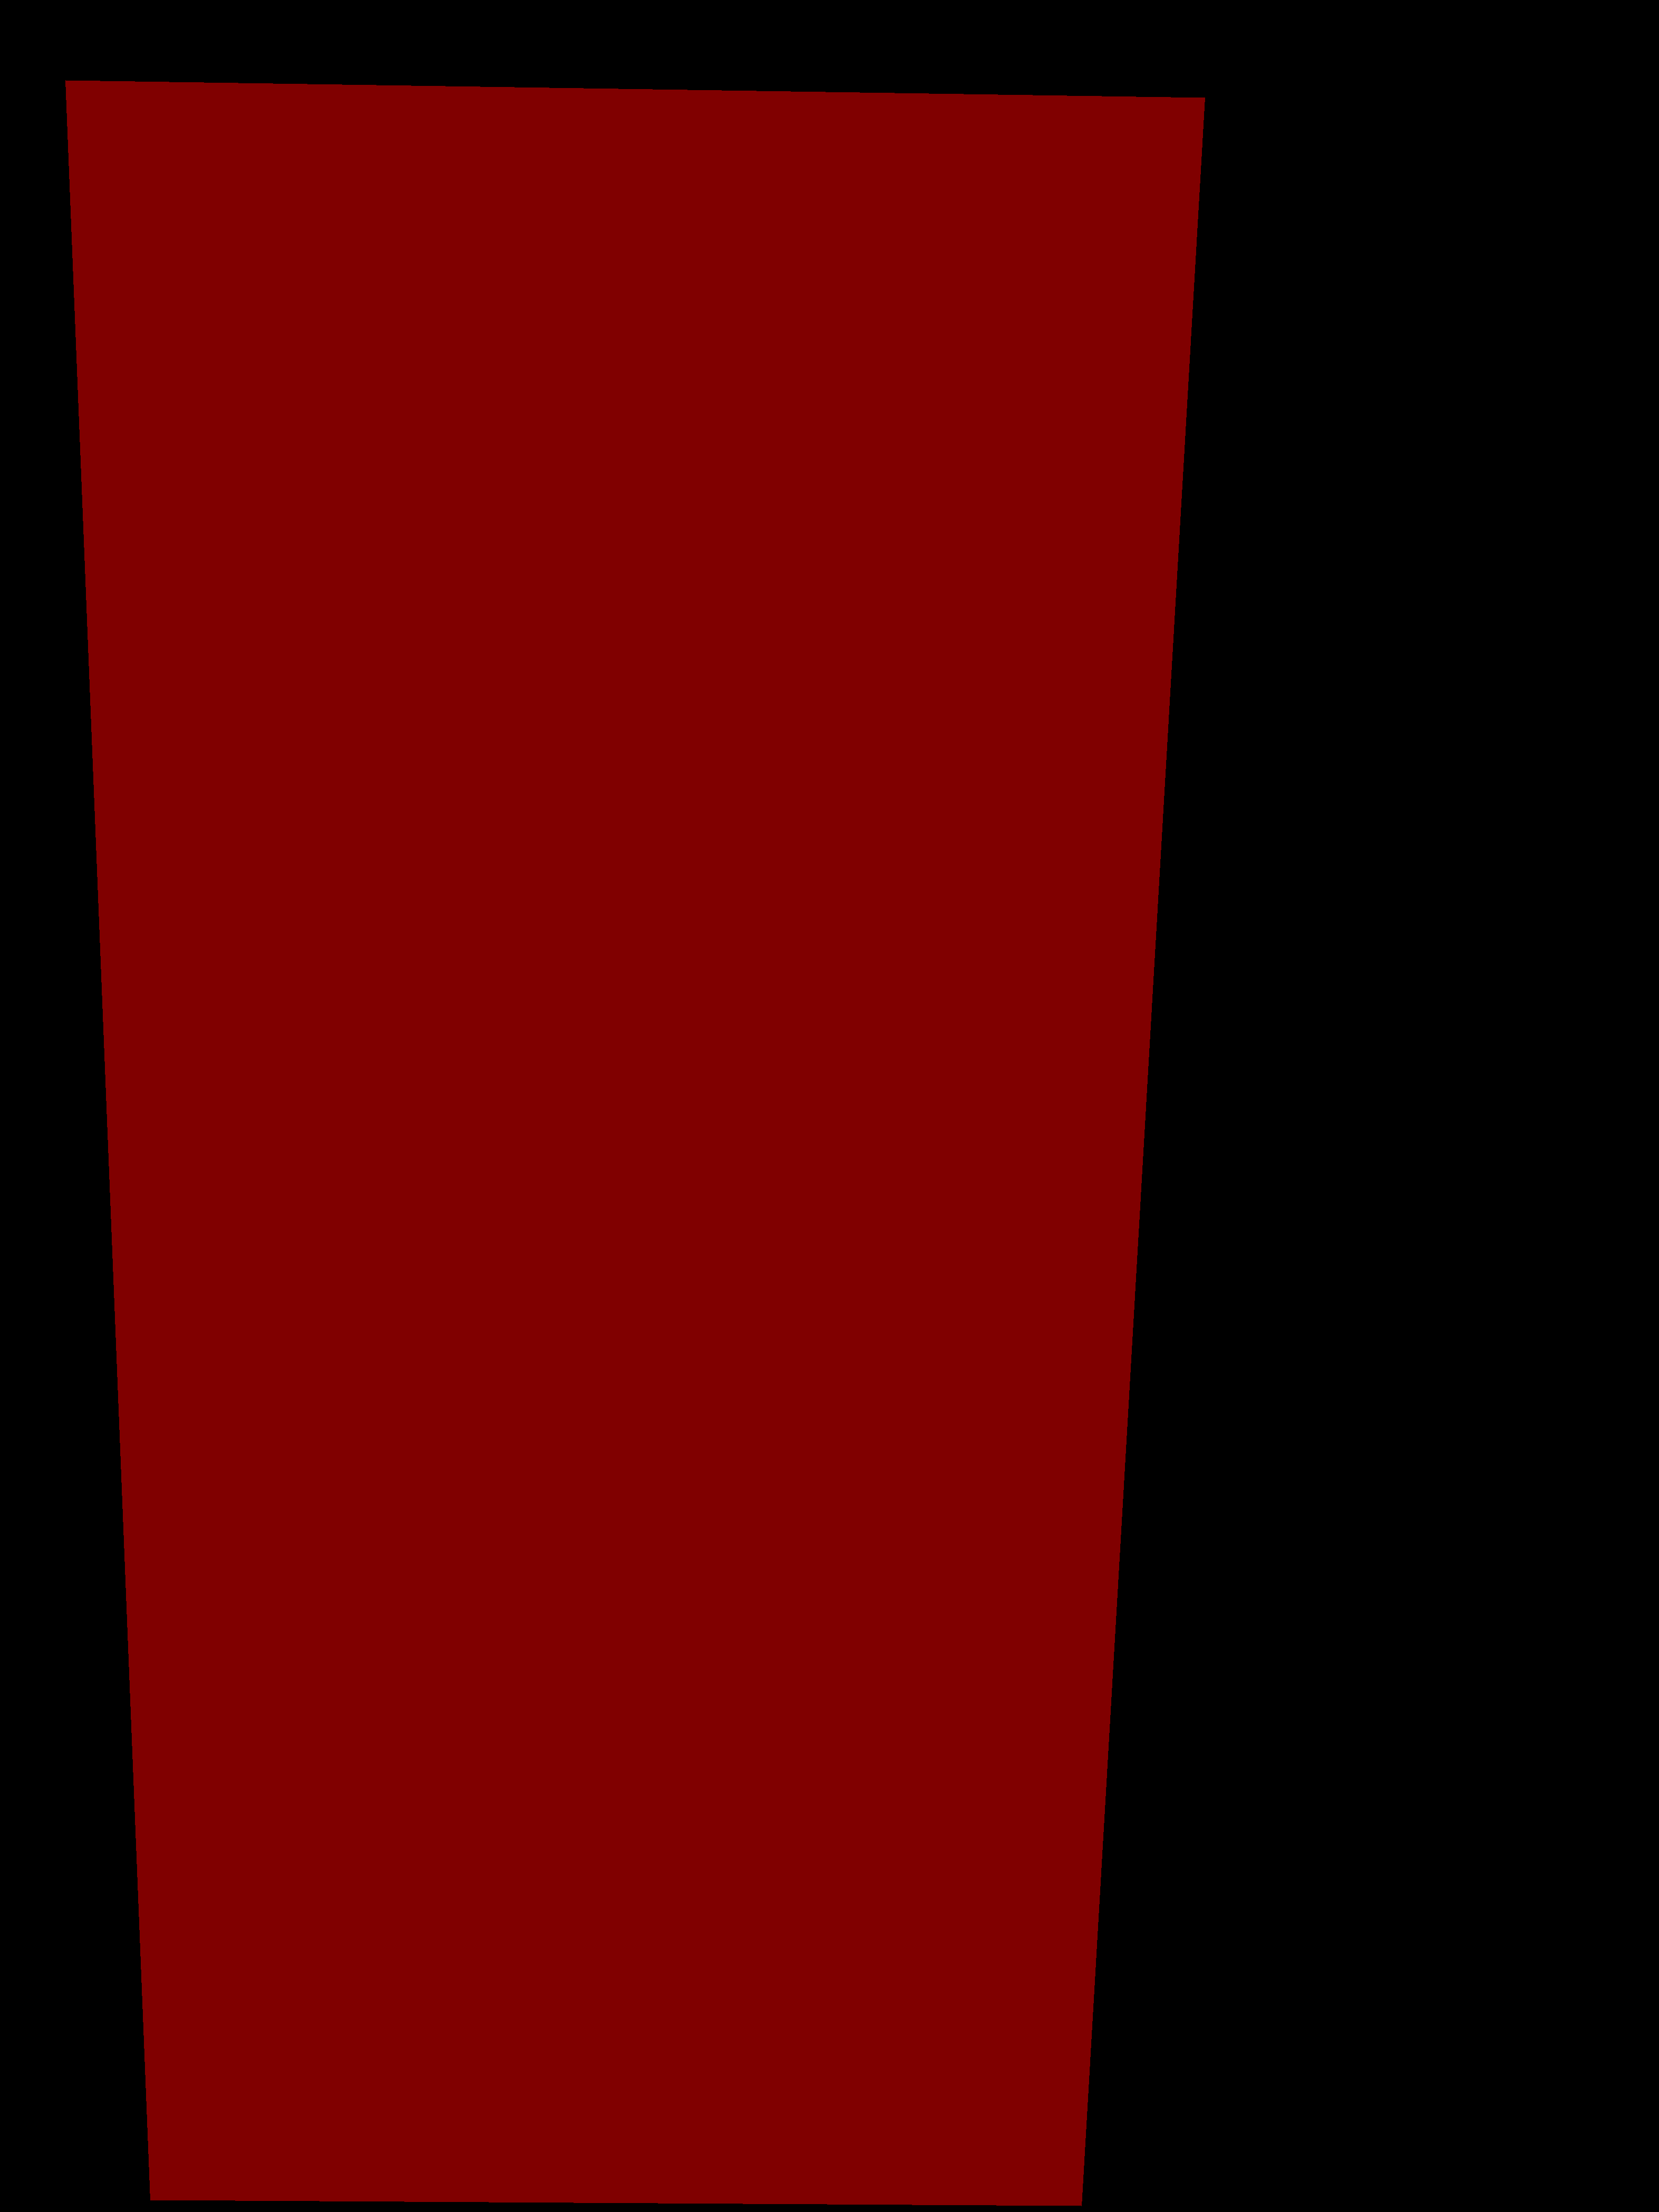door: (66, 80, 1204, 2205)
